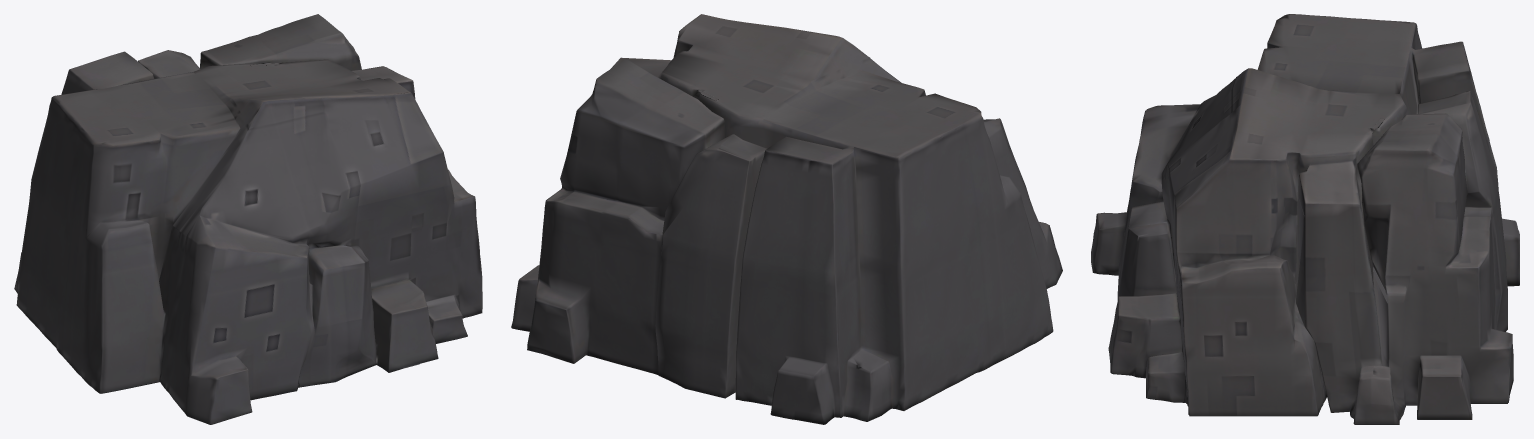
File: rock_large.glb
3 views of the same model, side by side, from view 1: azimuth 30°, elevation 25°; view 2: azimuth 150°, elevation 25°; view 3: azimuth 270°, elevation 25° (orthographic). The views are drawn at different scales.
Parts seen in each view (by area): view 1: tripo_node_dfafed4e-4019-43fe-95b2-ad574a7f81e1; view 2: tripo_node_dfafed4e-4019-43fe-95b2-ad574a7f81e1; view 3: tripo_node_dfafed4e-4019-43fe-95b2-ad574a7f81e1.
Boxes of the visible parts, x1=… form: tripo_node_dfafed4e-4019-43fe-95b2-ad574a7f81e1: x1=14, y1=14, x2=482, y2=424; tripo_node_dfafed4e-4019-43fe-95b2-ad574a7f81e1: x1=511, y1=14, x2=1062, y2=424; tripo_node_dfafed4e-4019-43fe-95b2-ad574a7f81e1: x1=1091, y1=14, x2=1519, y2=424.
Bounding box in the file's own units: 1 × 0.5871 × 0.9139.
Materials: 1 (1 with a texture image).
